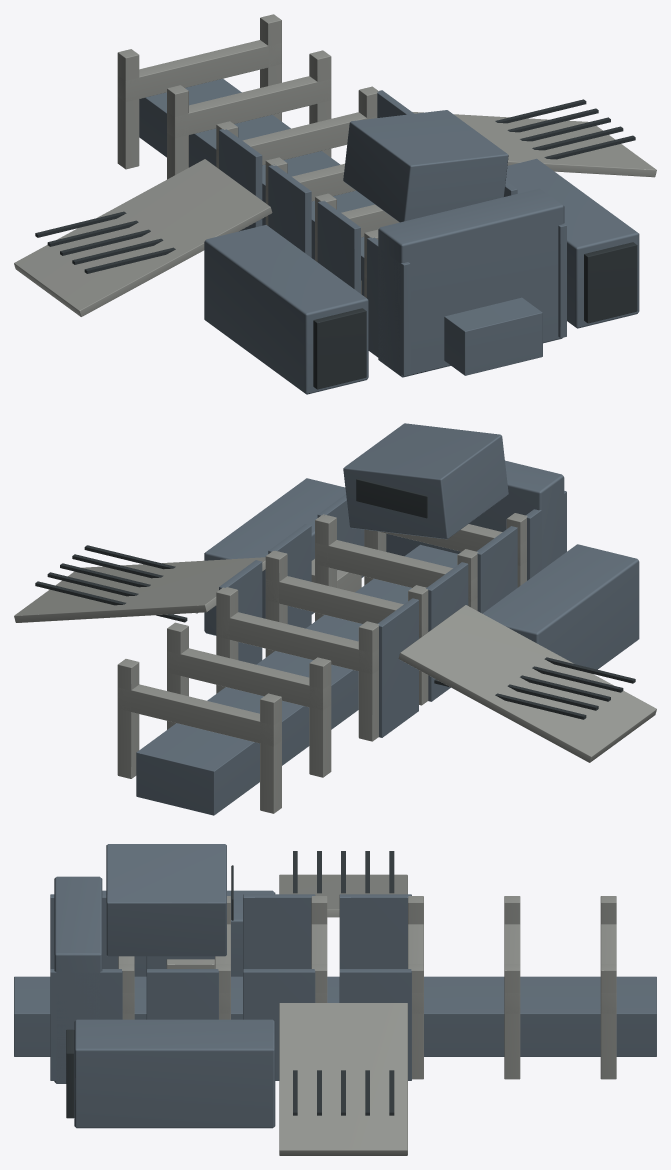
Rendered from derelict.glb.
3 renders of one model, top to bottom at view 1: azimuth 30°, elevation 25°; view 2: azimuth 150°, elevation 25°; view 3: azimuth 270°, elevation 25°, orthographic. The views are drawn at different scales.
Visible parts, largest first — view 1: Freighter keel, Cargo rib, Unpowered bridge glazing; view 2: Freighter keel, Cargo rib, Unpowered bridge glazing; view 3: Freighter keel, Cargo rib, Unpowered bridge glazing.
Boxes of the visible parts, x1,y1,x2,y2 form: Freighter keel: (139,79,639,394); Cargo rib: (14,14,656,316); Unpowered bridge glazing: (35,99,637,389); Freighter keel: (136,423,639,815); Cargo rib: (14,513,656,813); Unpowered bridge glazing: (35,478,635,719); Freighter keel: (14,844,656,1128); Cargo rib: (118,874,616,1155); Unpowered bridge glazing: (66,851,394,1118).
Bounding box in the file's own units: 81.14 × 25.29 × 80.
